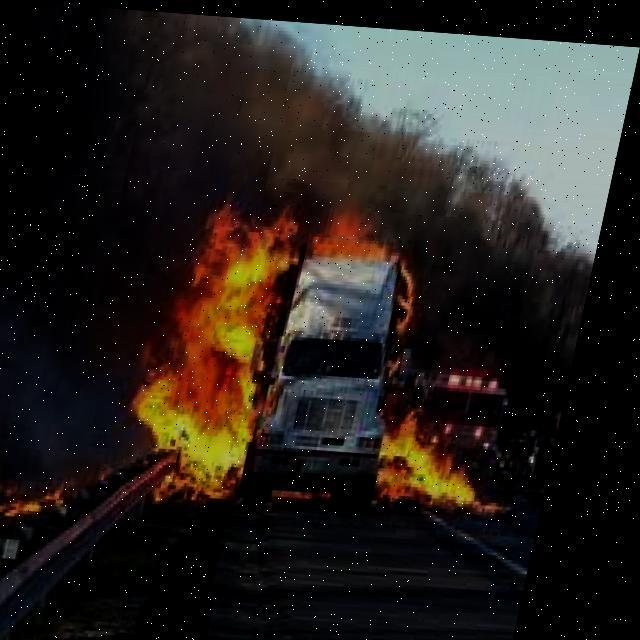Fire: (131, 197, 330, 506), (371, 398, 562, 512), (0, 376, 114, 524), (313, 198, 419, 266)
